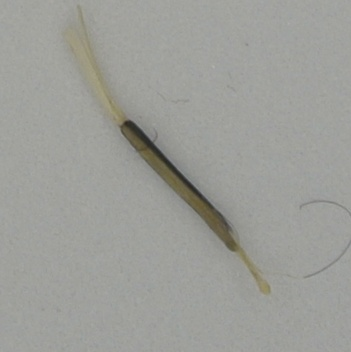เมล้ดปลายพู่กัน: (58, 1, 351, 297)
